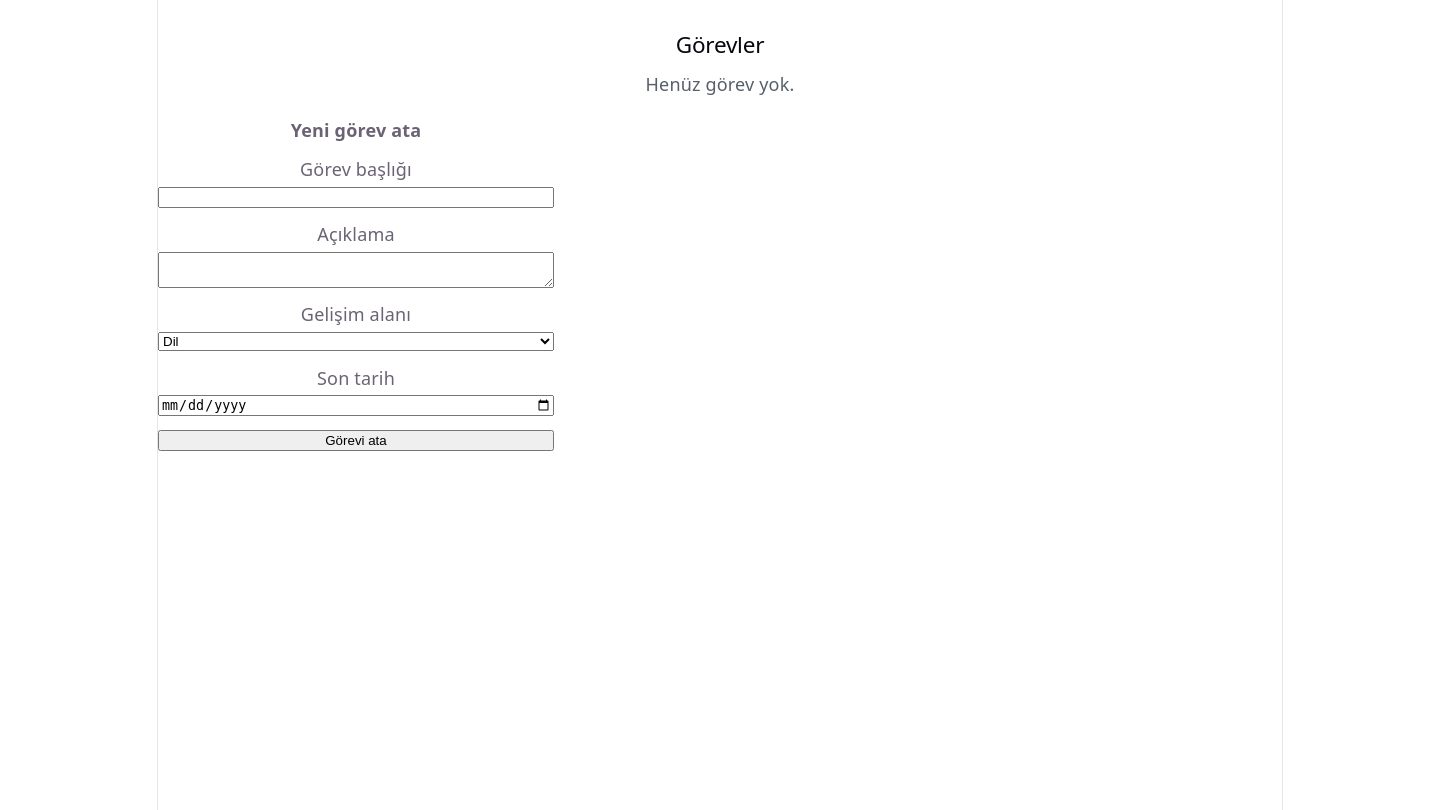
Test case: TaskList › shows the server error when a task cannot be saved
Expected: the text "Henüz görev yok." is shown, [646, 72, 794, 96]
In the field labelled "Görev başlığı": (356, 197) [158, 187, 554, 208], type "Draw a tree"
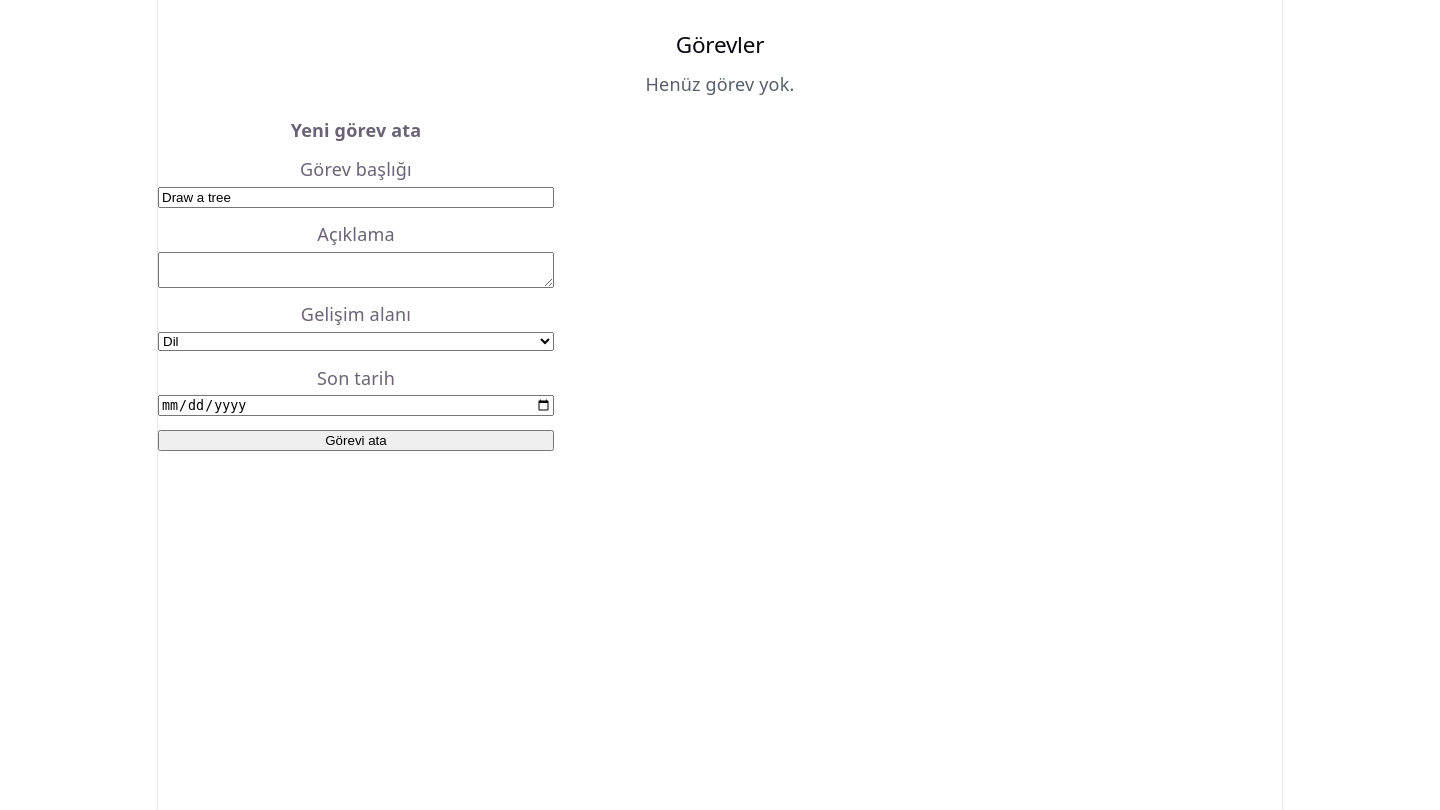
In the date field labelled "Son tarih": (356, 406) [158, 395, 554, 416], type "2026-11-26"
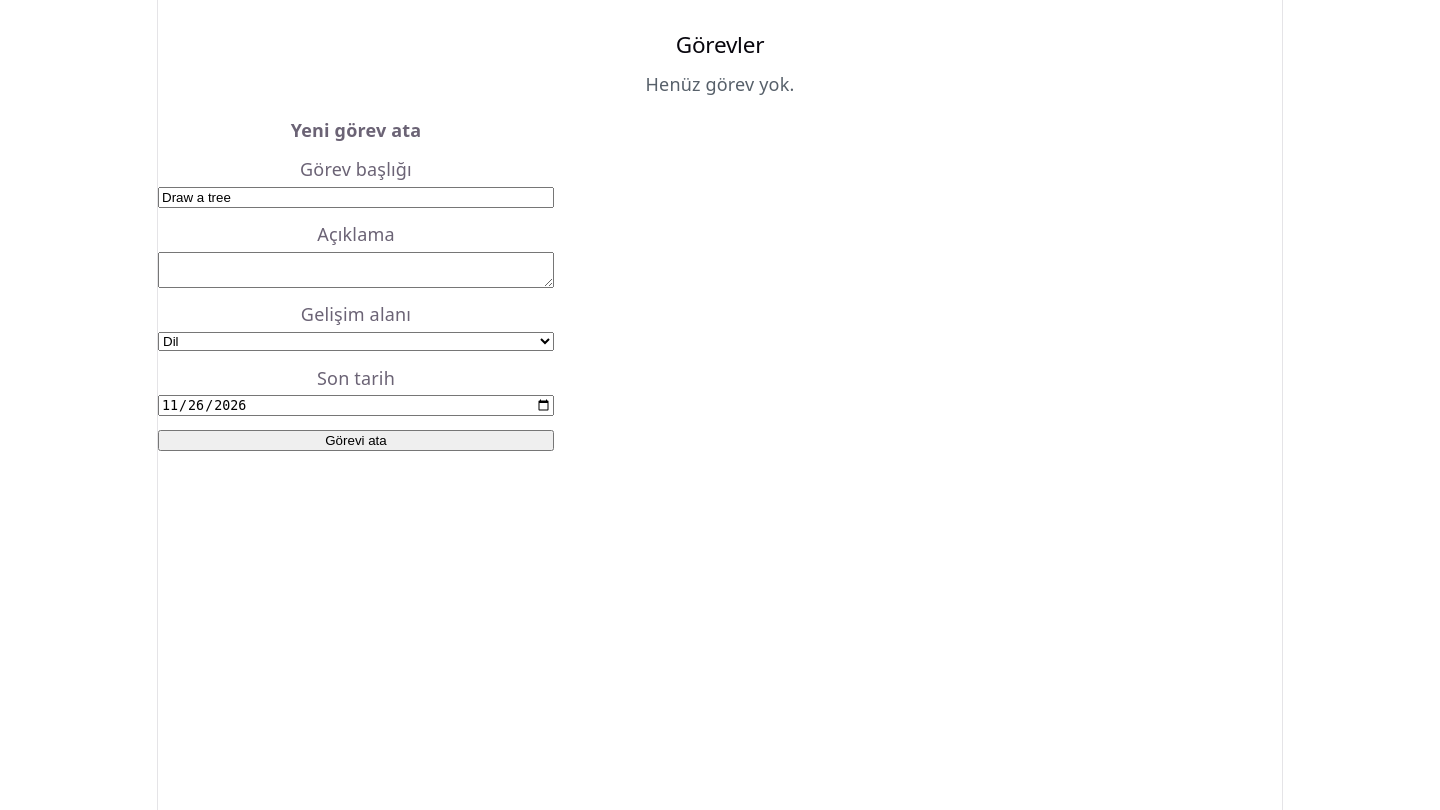
Click the button "Görevi ata": click(356, 440) [158, 430, 554, 451]
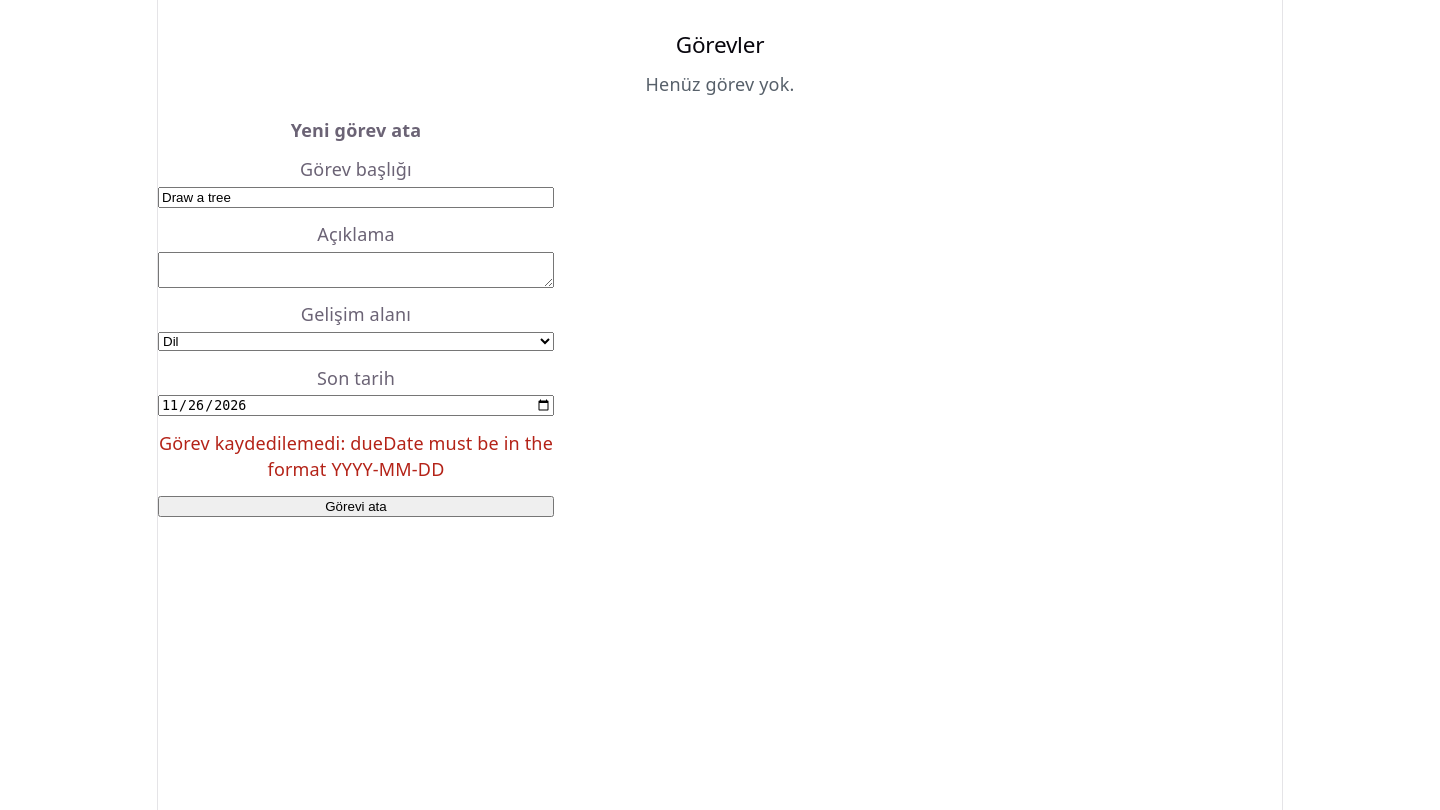
Expected: the message shows "dueDate must be", [159, 431, 553, 481]
